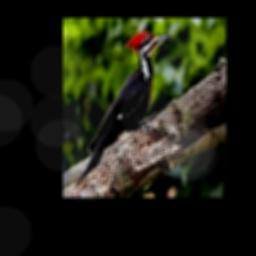Woodpecker: (77, 30, 172, 183)
